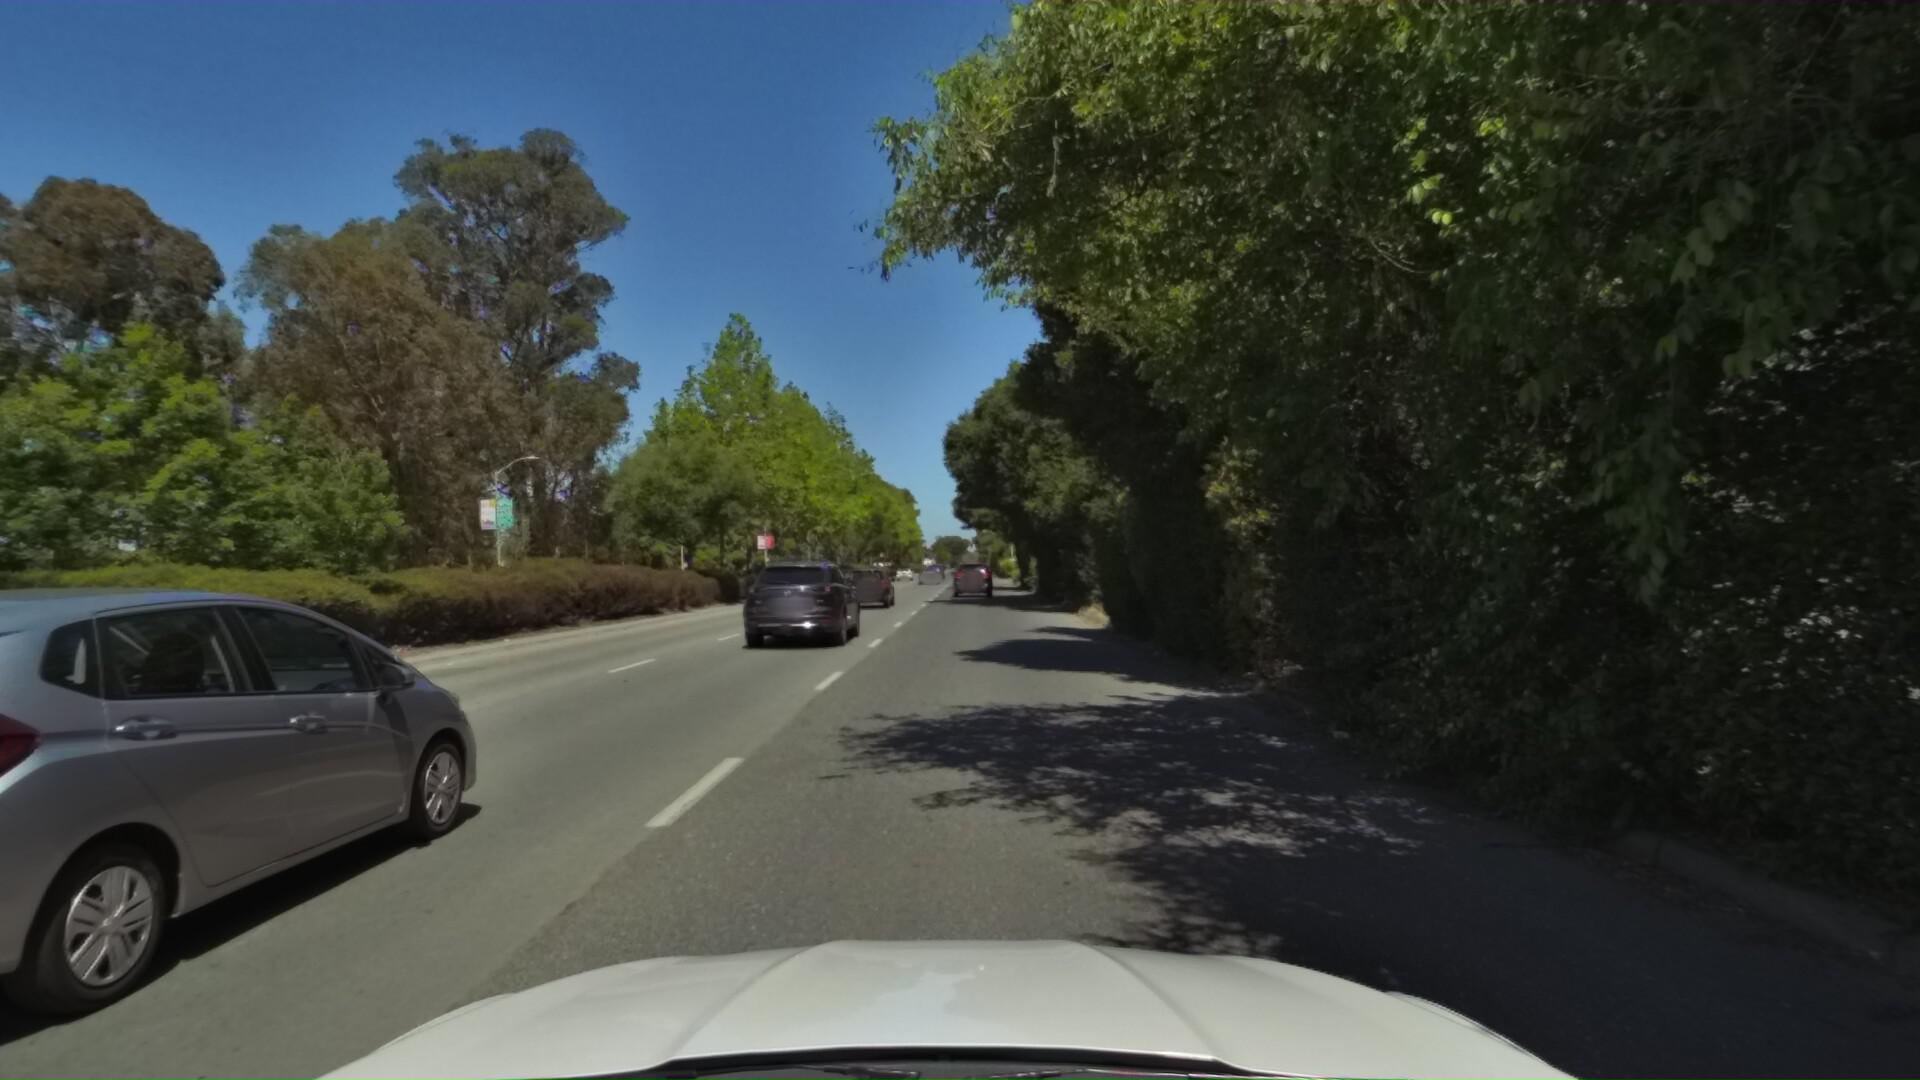car: (723, 546, 868, 653), (833, 559, 899, 613), (947, 559, 993, 597), (909, 560, 940, 583)
